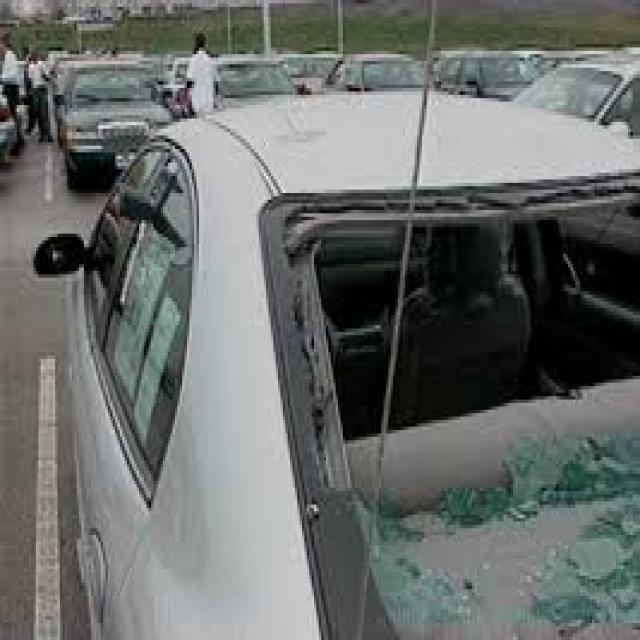minor: (267, 182, 639, 640)
